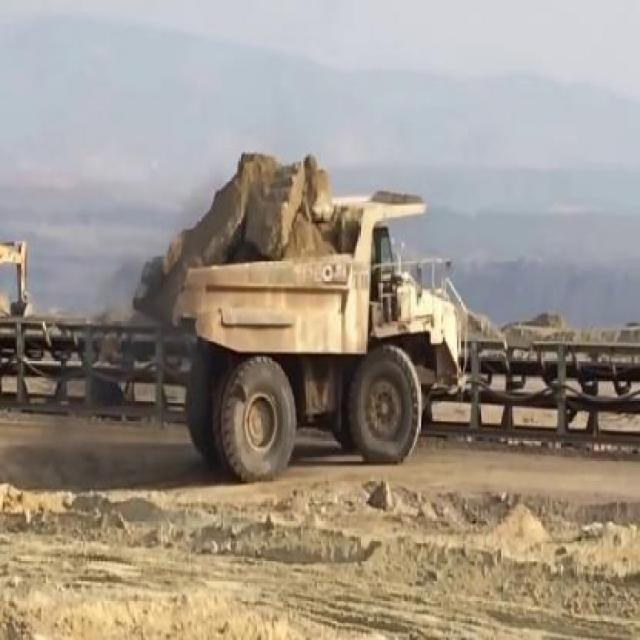Dump Truck: (140, 148, 469, 478)
